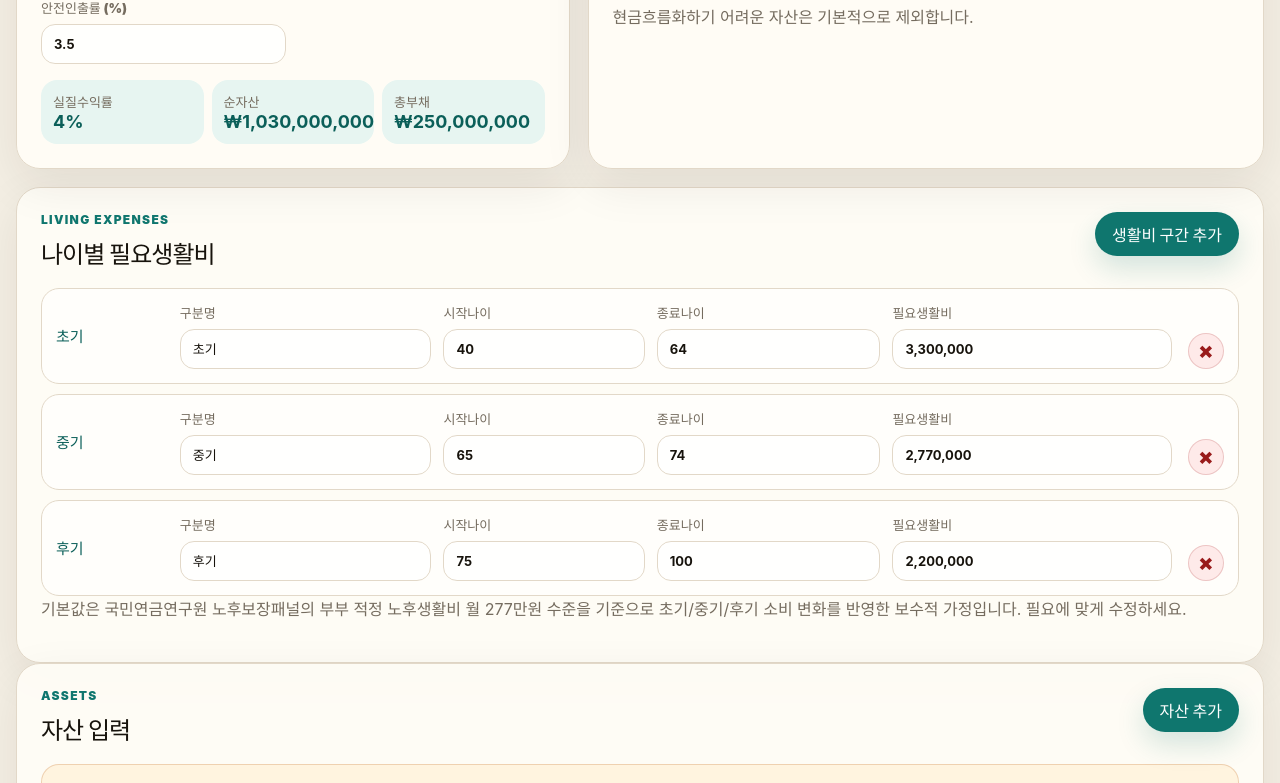
Scenario: EconomicFreedomSimulator app › updates the FI result when comma-formatted monthly retirement expense is reduced
(page scrolled)
Clear the 1st field labelled "필요생활비": (1032, 349) [892,329,1172,369]
(page scrolled)
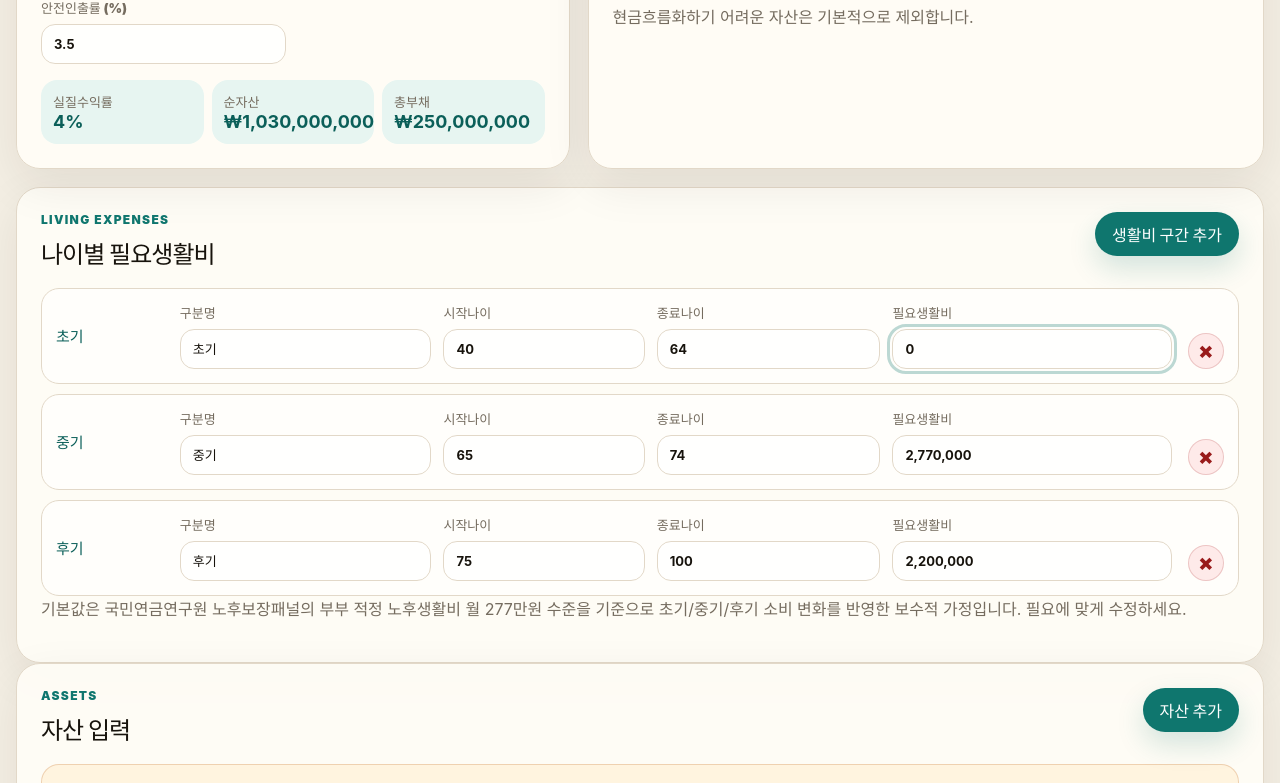
In the 1st field labelled "필요생활비": (1032, 349) [892,329,1172,369], type "3,000,000"
(page scrolled)
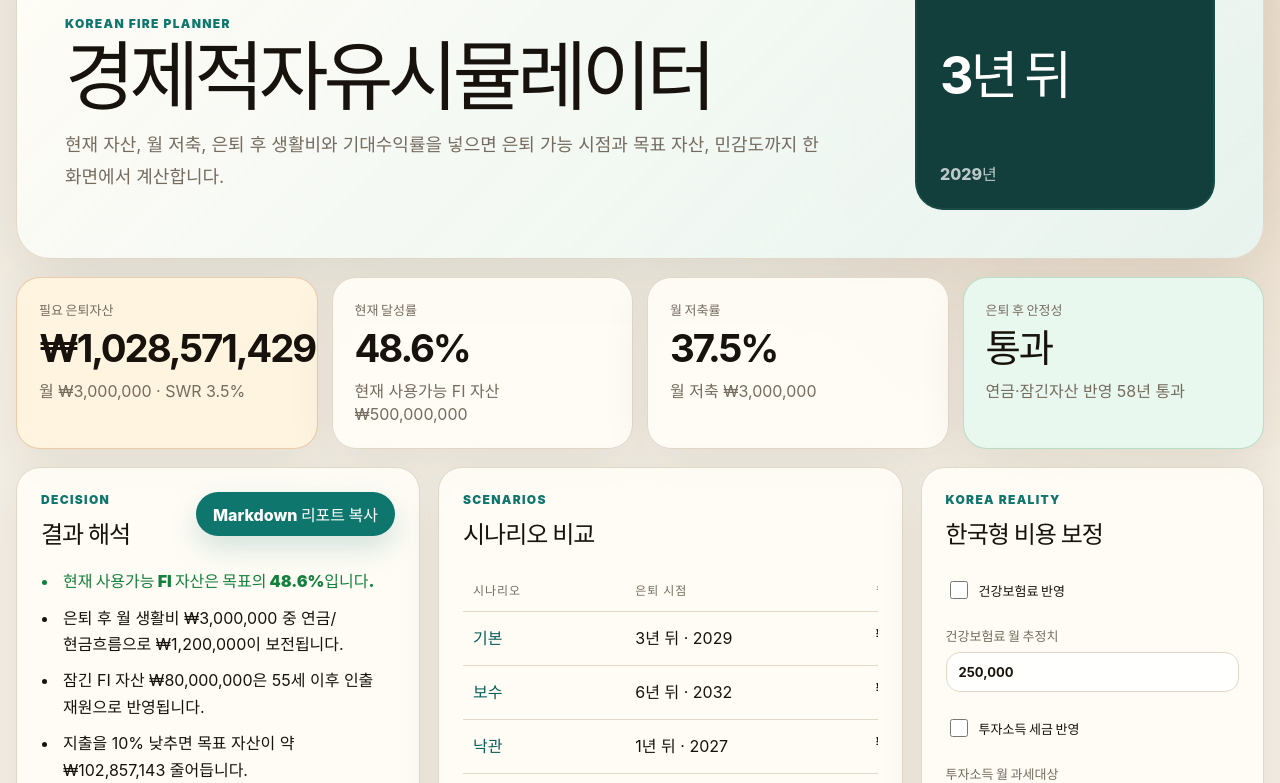
Expected: the text "3년 뒤" is shown, [940,44,1069,107]
Expected: the text "2029년" is shown, [940,164,997,184]
Expected: the text "₩1,028,571,429" is shown, [39,330,294,368]
